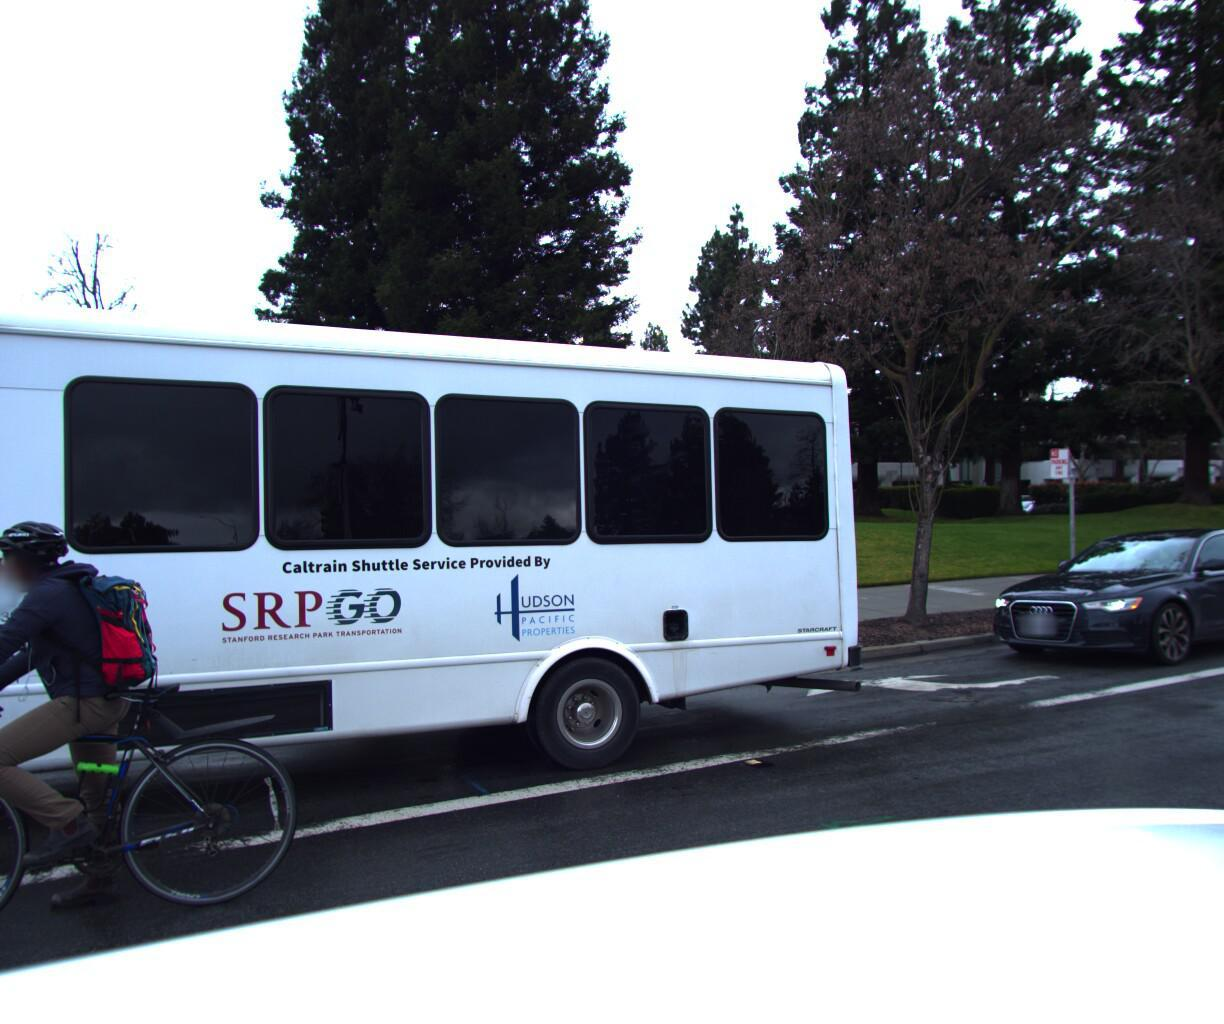bicycle: (0, 484, 325, 1024)
bus: (0, 213, 862, 1024)
car: (965, 526, 1224, 679)
